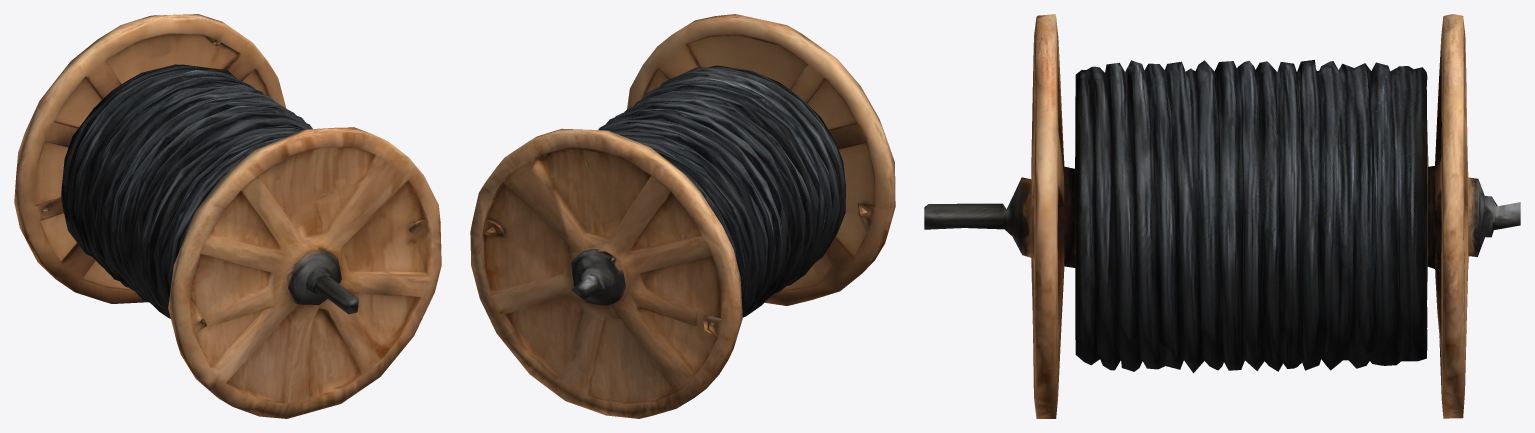
Rendered from qr_cabledrum.glb.
The picture shows the model from 3 angles, left to right: view 1: azimuth 30°, elevation 25°; view 2: azimuth 150°, elevation 25°; view 3: azimuth 270°, elevation 25°; orthographic projection. The views are drawn at different scales.
Visible parts, largest first — view 1: tripo_node_b4af4187-40f2-4e94-b60b-026aabd6e0f7; view 2: tripo_node_b4af4187-40f2-4e94-b60b-026aabd6e0f7; view 3: tripo_node_b4af4187-40f2-4e94-b60b-026aabd6e0f7.
Boxes of the visible parts, <box> form: tripo_node_b4af4187-40f2-4e94-b60b-026aabd6e0f7: <box>14,14,441,418</box>; tripo_node_b4af4187-40f2-4e94-b60b-026aabd6e0f7: <box>470,14,895,418</box>; tripo_node_b4af4187-40f2-4e94-b60b-026aabd6e0f7: <box>924,14,1520,418</box>.
Size of the model in its own units: 0.6844 by 0.6836 by 1.
1 material, 1 textured.
